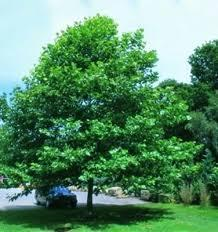tree: (12, 13, 186, 216)
